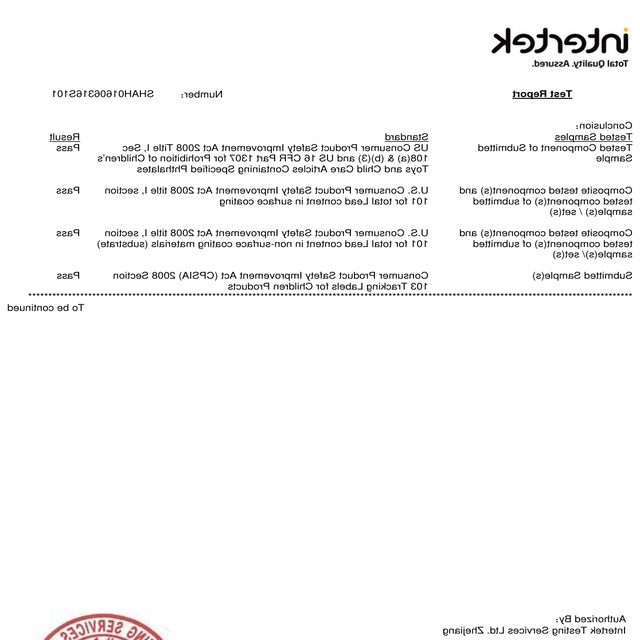intertek: (486, 25, 633, 59)
